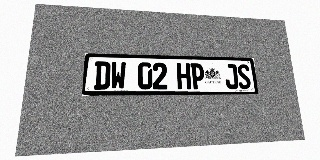0: (138, 62, 152, 89)
2: (153, 62, 167, 89)
D: (94, 61, 111, 90)
H: (177, 63, 191, 89)
J: (224, 64, 239, 89)
P: (190, 63, 205, 89)
S: (237, 64, 251, 89)
W: (110, 62, 126, 89)
